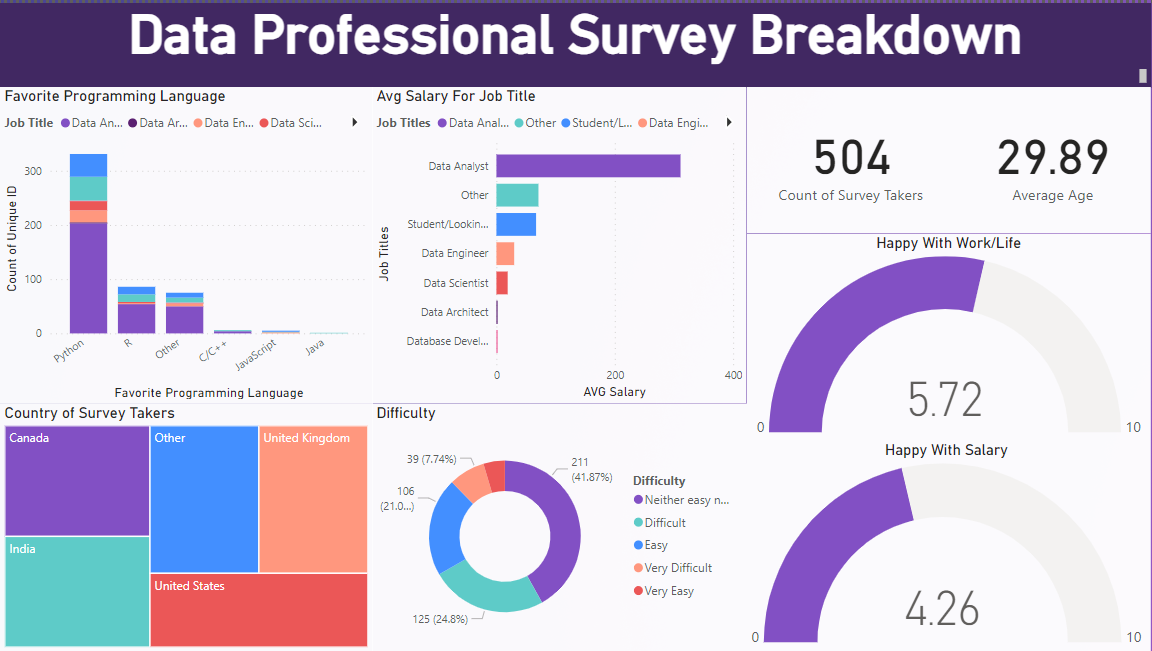

The page's visual inventory and layout, read from the dashboard file:
{"tool":"powerbi","page":{"name":"Page 1","canvas":[1280,720],"ordinal":0},"visuals":[{"type":"textbox","title":"Data Professional Survey Breakdown","box":[0,0,1279.3,94],"z":0},{"type":"card","fields":{"Values":["Count(Data Professional Survey.Unique ID)"]},"box":[830,93.8,230,162.5],"z":1000},{"type":"card","fields":{"Values":["Avg(Data Professional Survey.Q10 - Current Age)"]},"box":[1060,93.8,218.8,162.5],"z":2000},{"type":"barChart","title":"Avg Salary For Job Title","fields":{"Category":["Data Professional Survey.Q1 - Which Title Best Fits your Current Role?.1"],"Y":["CountNonNull(Data Professional Survey.Average Salary.1)"],"Series":["Data Professional Survey.Q1 - Which Title Best Fits your Current Role?.1"]},"box":[413.8,93.8,416.2,351.2],"z":3000},{"type":"columnChart","title":"Favorite Programming Language","fields":{"Category":["Data Professional Survey.Q5 - Favorite Programming Language.1"],"Y":["CountNonNull(Data Professional Survey.Unique ID)"],"Series":["Data Professional Survey.Q1 - Which Title Best Fits your Current Role?.1"]},"box":[0,93.1,413.8,351.7],"z":4000},{"type":"treemap","title":"Country of Survey Takers","fields":{"Group":["Data Professional Survey.Q11 - Which Country do you live in?.1"],"Values":["Count(Data Professional Survey.Q11 - Which Country do you live in?.1)"]},"box":[0,444.8,413.8,275.9],"z":5000},{"type":"gauge","title":"Happy With Work/Life","fields":{"Y":["Avg(Data Professional Survey.Q6 - How Happy are you in your Current Position with the following? (Work/Life Balance))"],"MinValue":["Min(Data Professional Survey.Q6 - How Happy are you in your Current Position with the following? (Work/Life Balance))"],"MaxValue":["Max(Data Professional Survey.Q6 - How Happy are you in your Current Position with the following? (Work/Life Balance))"]},"box":[830,256.7,448.3,230],"z":6000},{"type":"gauge","title":"Happy With Salary","fields":{"Y":["Avg(Data Professional Survey.Q6 - How Happy are you in your Current Position with the following? (Salary))"],"MinValue":["Min(Data Professional Survey.Q6 - How Happy are you in your Current Position with the following? (Salary))"],"MaxValue":["Max(Data Professional Survey.Q6 - How Happy are you in your Current Position with the following? (Salary))"]},"box":[830,486.7,448.3,233.3],"z":7000},{"type":"donutChart","title":"Difficulty","fields":{"Category":["Data Professional Survey.Q7 - How difficult was it for you to break into Data?"],"Y":["CountNonNull(Data Professional Survey.Q7 - How difficult was it for you to break into Data?)"]},"box":[413.3,444.4,416.7,275.6],"z":8000}]}

Visuals, with their boxes in screenshot pixels (x1, y1, x2, y2), scaled from the page's 1280x720 canvas onto the 1152x651 screenshot:
"Data Professional Survey Breakdown" textbox: Rect(0, 0, 1151, 85)
card - Count(Data Professional Survey.Unique ID): Rect(747, 85, 954, 232)
card - Avg(Data Professional Survey.Q10 - Current Age): Rect(954, 85, 1151, 232)
"Avg Salary For Job Title" barChart: Rect(372, 85, 747, 402)
"Favorite Programming Language" columnChart: Rect(0, 84, 372, 402)
"Country of Survey Takers" treemap: Rect(0, 402, 372, 650)
"Happy With Work/Life" gauge: Rect(747, 232, 1150, 440)
"Happy With Salary" gauge: Rect(747, 440, 1150, 650)
"Difficulty" donutChart: Rect(372, 402, 747, 650)
